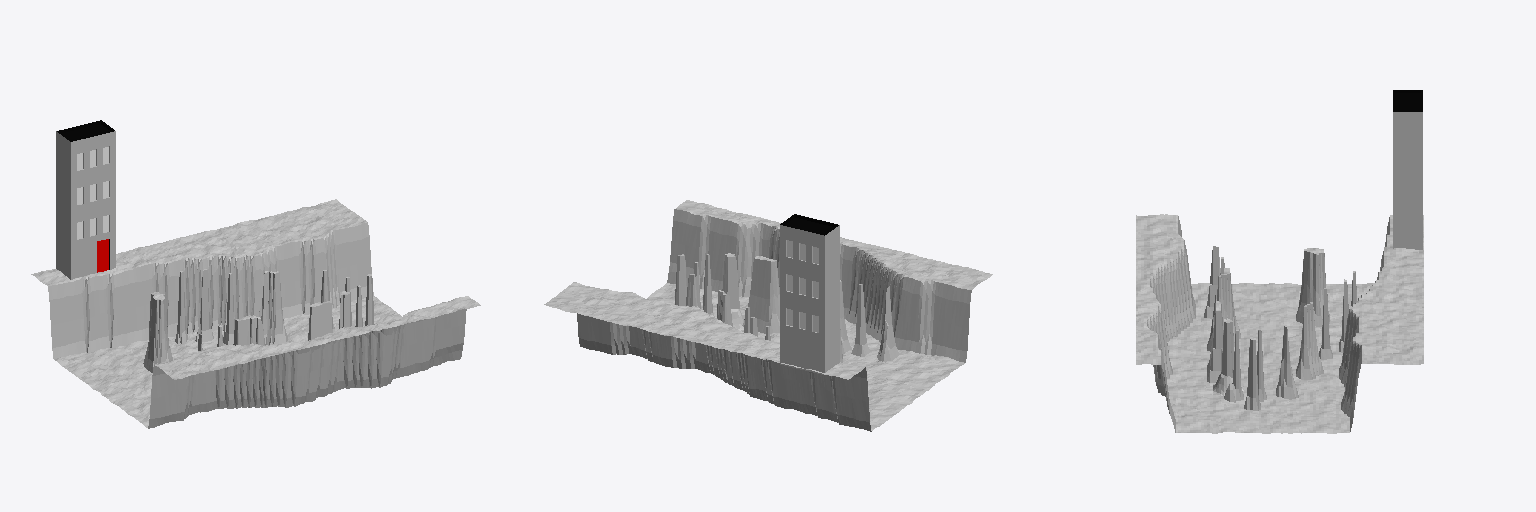
Rendered from chunk4.obj.
3 renders of one model, left to right at view 1: azimuth 30°, elevation 25°; view 2: azimuth 150°, elevation 25°; view 3: azimuth 270°, elevation 25°, orthographic.
Visible parts, largest first — view 1: Terrain_Chunk_4, Terrain_Chunk_4_Sides, Building.001; view 2: Terrain_Chunk_4, Terrain_Chunk_4_Sides, Building.001; view 3: Terrain_Chunk_4, Terrain_Chunk_4_Sides, Building.001.
Part boxes in pixels (x1,y1,x2,y2): Terrain_Chunk_4: (75, 207, 452, 420); Terrain_Chunk_4_Sides: (31, 199, 480, 428); Building.001: (56, 120, 115, 279); Terrain_Chunk_4: (571, 207, 964, 424); Terrain_Chunk_4_Sides: (544, 200, 992, 431); Building.001: (780, 214, 839, 374); Terrain_Chunk_4: (1136, 228, 1423, 419); Terrain_Chunk_4_Sides: (1136, 214, 1423, 433); Building.001: (1393, 90, 1422, 249).
Size of the model in its own units: 48.93 by 31.73 by 40.